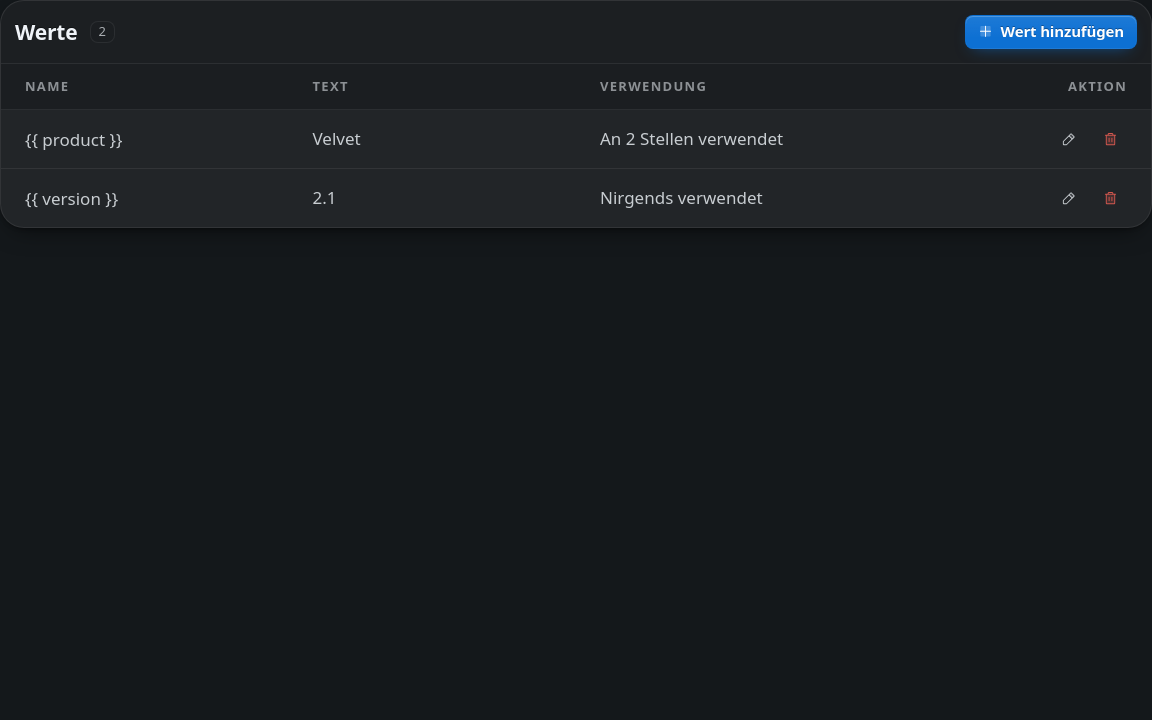
Test: names the places that still use a value and offers no delete for it
Click the button named "product löschen" at (1110,139), box [1093,122,1127,156]
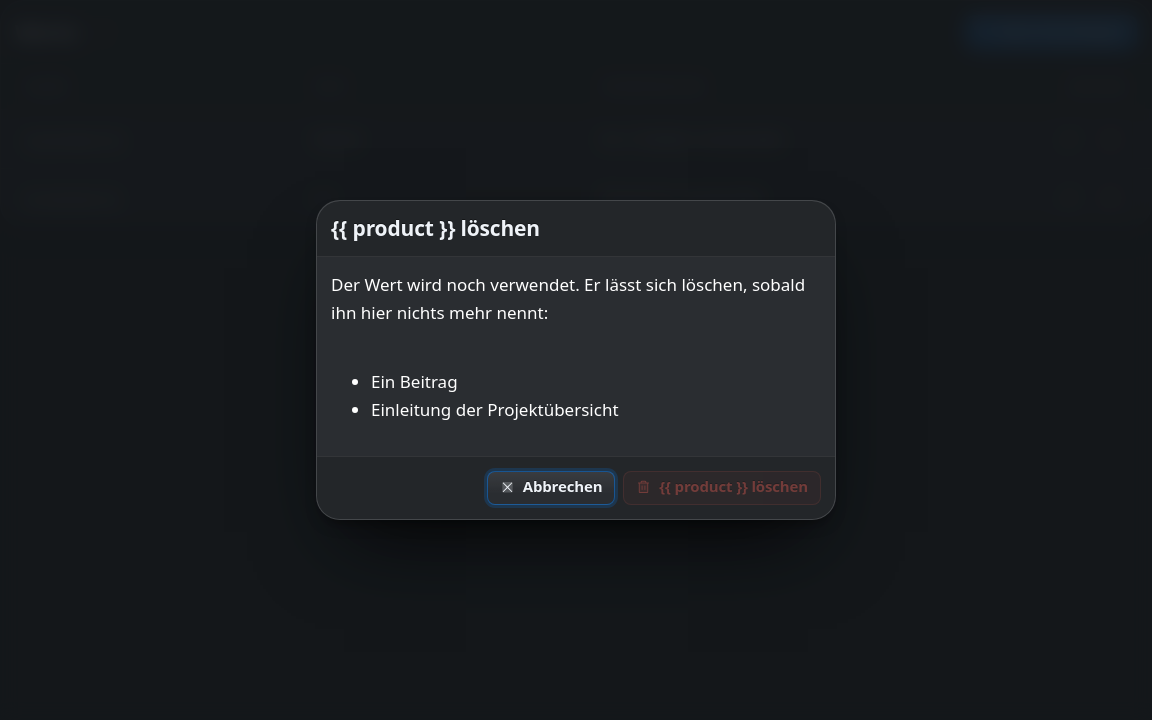
Result: the list item "Ein Beitrag" is shown at [371,370,458,393]
Result: the list item "Einleitung der Projektübersicht" is shown at [371,398,619,422]
Result: the button "{{ product }} löschen" is disabled at [623,470,821,504]
